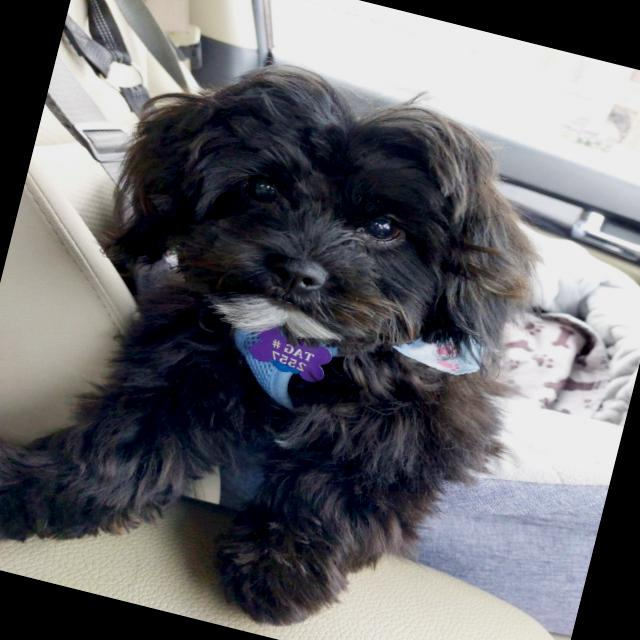shih_tzu_dog: (82, 27, 565, 416)
